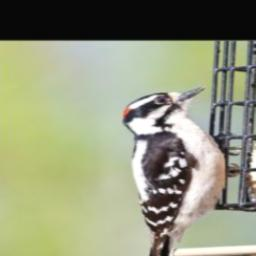Woodpecker: (119, 86, 242, 256)
